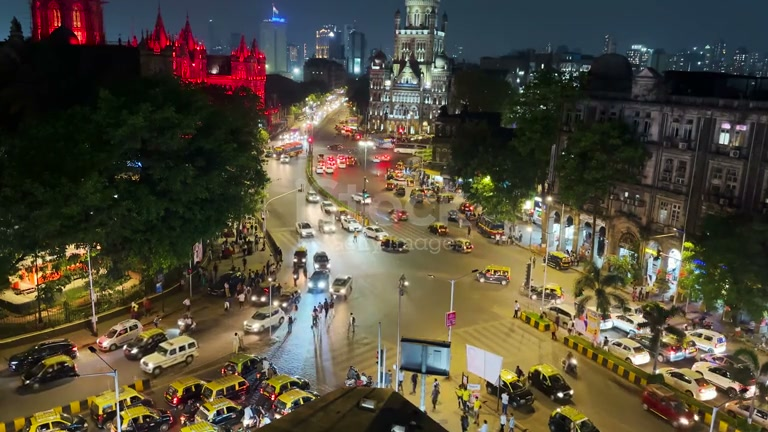bus: (316, 153, 356, 174)
car: (6, 338, 80, 376), (641, 383, 700, 430), (139, 333, 199, 377), (692, 362, 752, 398), (22, 353, 79, 387), (528, 363, 575, 404), (661, 369, 717, 402), (95, 319, 144, 353), (499, 367, 536, 410), (123, 328, 170, 361), (547, 405, 601, 432), (685, 328, 727, 357), (243, 306, 286, 334), (607, 338, 651, 364), (474, 265, 511, 286), (545, 249, 572, 271), (380, 237, 410, 253), (444, 237, 474, 253), (364, 225, 386, 240), (296, 221, 315, 238), (429, 222, 450, 236)
pedestrian: (430, 380, 442, 412)
